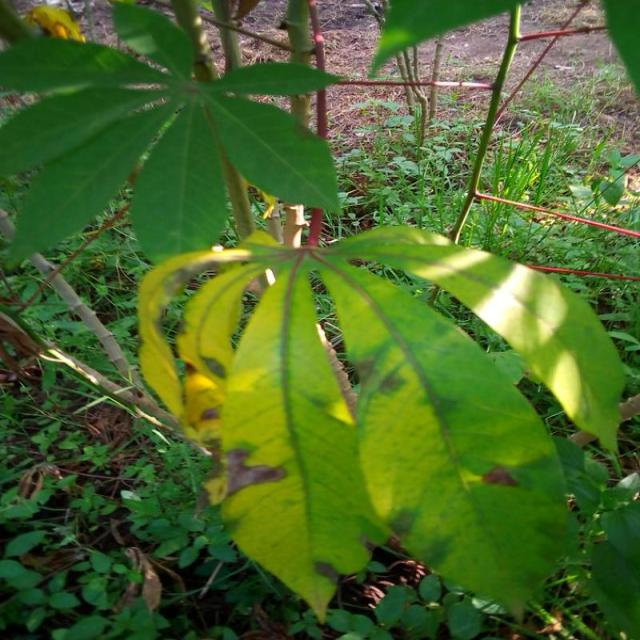cassava leaf: (138, 221, 622, 625), (317, 250, 572, 620), (2, 1, 344, 276), (325, 222, 626, 455), (216, 253, 390, 623)
